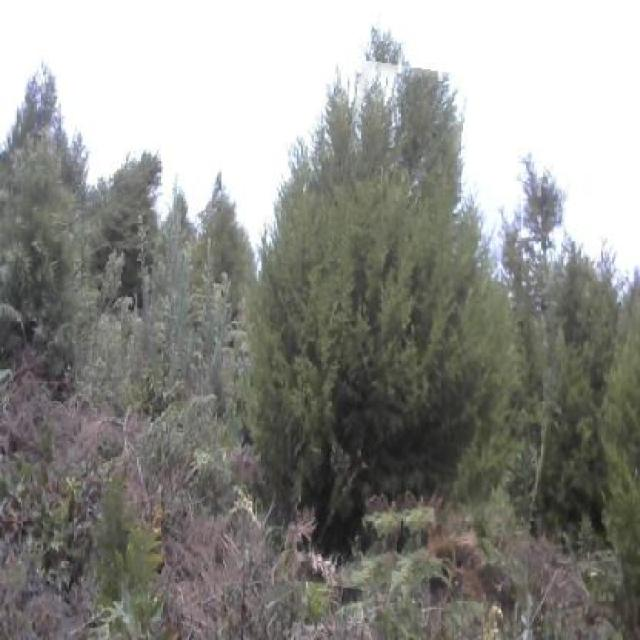tree trunk: (300, 63, 451, 592)
